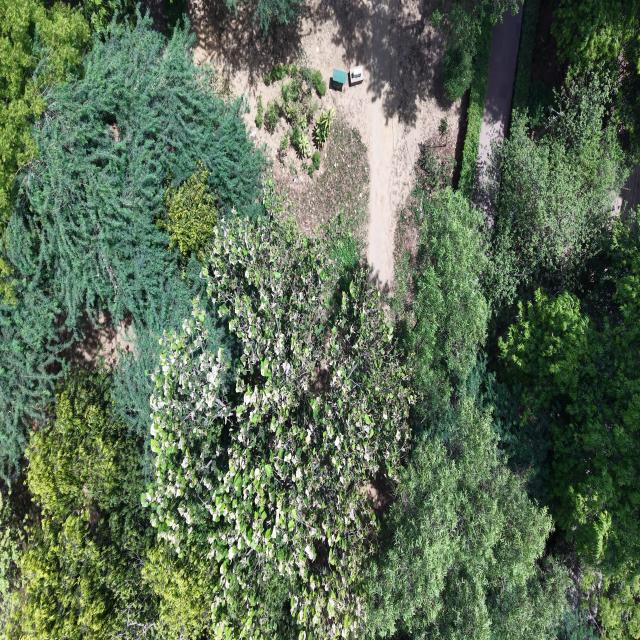DRY_AREA: (189, 0, 459, 290), (474, 4, 522, 213), (477, 5, 522, 185), (64, 312, 135, 368), (530, 0, 567, 101), (531, 0, 567, 103), (617, 165, 639, 211)
VEGETATION_TREE: (0, 0, 639, 639), (143, 218, 566, 637), (13, 215, 413, 637), (0, 18, 262, 637), (395, 64, 639, 638), (0, 18, 263, 473), (144, 217, 413, 637), (485, 2, 639, 638), (367, 178, 568, 638), (7, 20, 262, 325), (493, 217, 639, 638), (0, 370, 212, 638), (499, 220, 639, 574), (367, 397, 568, 639), (499, 277, 639, 570), (14, 372, 156, 639), (488, 74, 625, 311), (0, 0, 135, 231), (0, 0, 89, 231), (406, 188, 488, 423), (539, 0, 639, 164), (0, 269, 68, 479), (553, 0, 639, 161), (295, 117, 369, 253), (432, 0, 518, 100), (142, 544, 214, 639), (457, 17, 492, 198), (265, 62, 325, 158), (158, 165, 217, 261), (554, 0, 639, 65), (0, 483, 25, 637), (443, 5, 480, 100), (593, 571, 639, 639), (513, 0, 541, 111), (280, 66, 318, 128), (264, 61, 326, 97), (416, 143, 454, 195), (248, 0, 304, 34), (78, 0, 137, 31), (523, 79, 558, 130), (558, 608, 598, 639), (166, 0, 188, 38), (314, 107, 334, 148), (0, 259, 16, 303), (291, 127, 311, 158), (264, 63, 290, 85), (264, 100, 279, 133), (277, 131, 290, 165), (311, 70, 326, 97), (308, 150, 321, 177), (290, 127, 302, 150), (255, 95, 263, 129), (438, 118, 448, 136), (311, 151, 320, 170), (307, 163, 315, 177)
